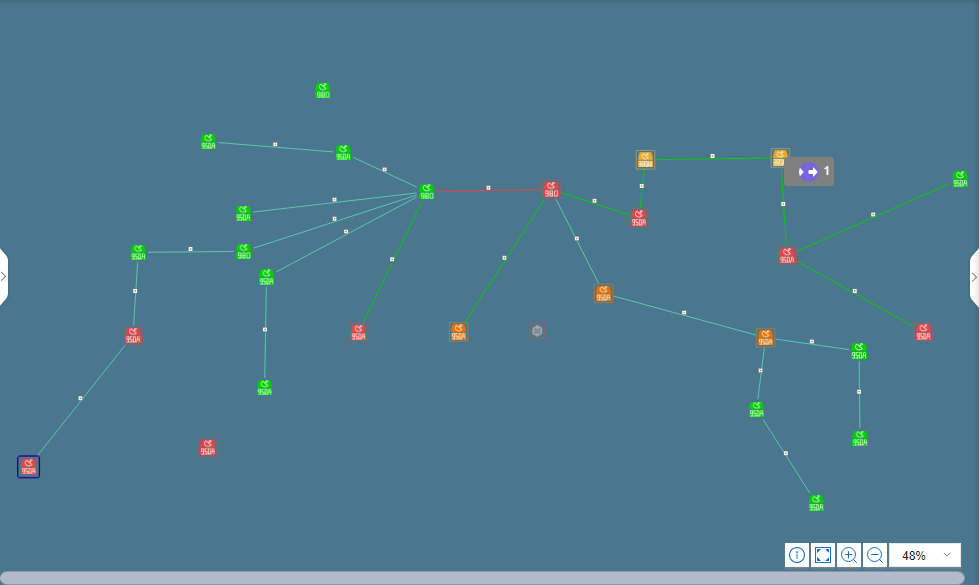ATN_Orange: (756, 326, 779, 349), (597, 283, 612, 306)
ATN_Red: (627, 210, 650, 233), (199, 436, 222, 459), (542, 179, 564, 202), (915, 320, 938, 341), (125, 326, 141, 349), (780, 247, 795, 270), (21, 455, 37, 476), (352, 326, 369, 343)
Link_Blue: (34, 345, 121, 459), (278, 198, 407, 266), (254, 198, 396, 247), (624, 296, 753, 334), (763, 418, 815, 496), (554, 198, 598, 282), (254, 192, 396, 210), (352, 155, 416, 190), (794, 338, 852, 355), (265, 143, 327, 150), (132, 259, 142, 294), (756, 345, 763, 387)
Link_Green: (798, 179, 950, 250), (462, 198, 543, 325), (798, 259, 910, 331), (364, 204, 421, 312), (566, 192, 632, 221), (658, 155, 772, 166), (639, 167, 650, 184)
Link_Red: (437, 185, 538, 196)
RTN_Green: (750, 400, 766, 423), (811, 497, 828, 514), (260, 271, 277, 288), (199, 136, 216, 153), (854, 430, 870, 445)
Router_Green: (419, 185, 436, 202), (236, 247, 252, 263)
Switch_Red: (199, 436, 222, 459)
